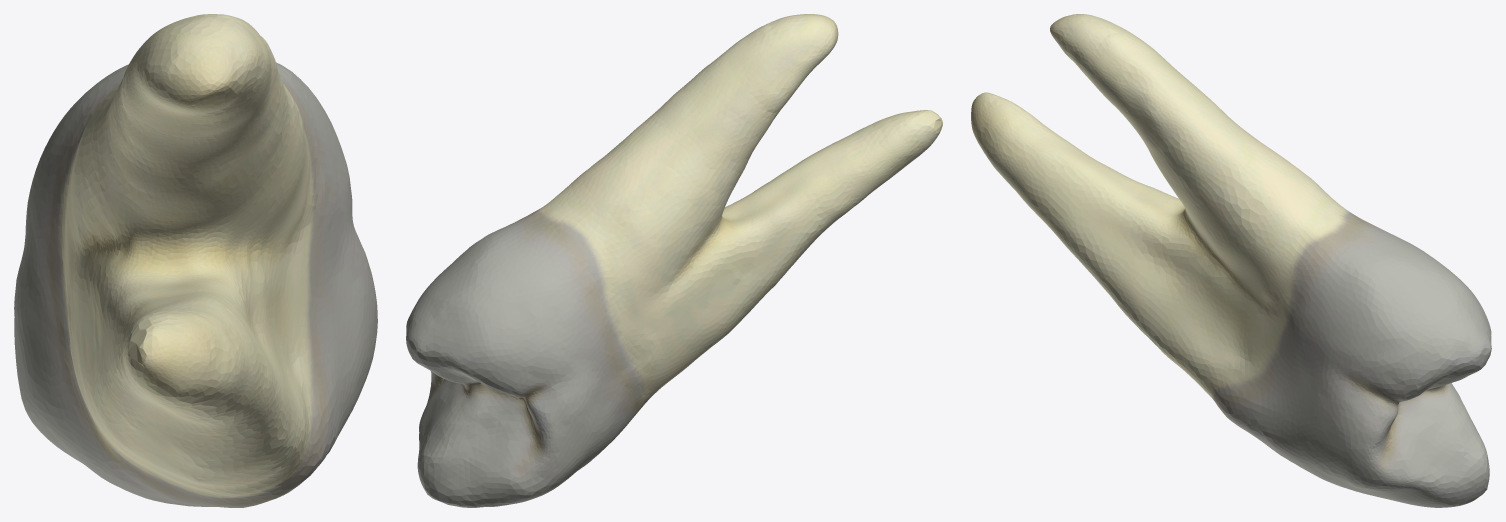
The model's file is 14 - primeiro premolar superior direito.glb.
The picture shows the model from 3 angles, left to right: view 1: azimuth 30°, elevation 25°; view 2: azimuth 150°, elevation 25°; view 3: azimuth 270°, elevation 25°; orthographic projection. The views are drawn at different scales.
Visible parts, largest first — view 1: 3MFMeshParent_0; view 2: 3MFMeshParent_0; view 3: 3MFMeshParent_0.
Boxes of the visible parts, x1,y1,x2,y2 form: 3MFMeshParent_0: (14, 14, 377, 507); 3MFMeshParent_0: (406, 14, 942, 507); 3MFMeshParent_0: (971, 14, 1491, 507).
Bounding box in the file's own units: 0.3683 × 0.4364 × 0.512.
Materials: 1 (1 with a texture image).
